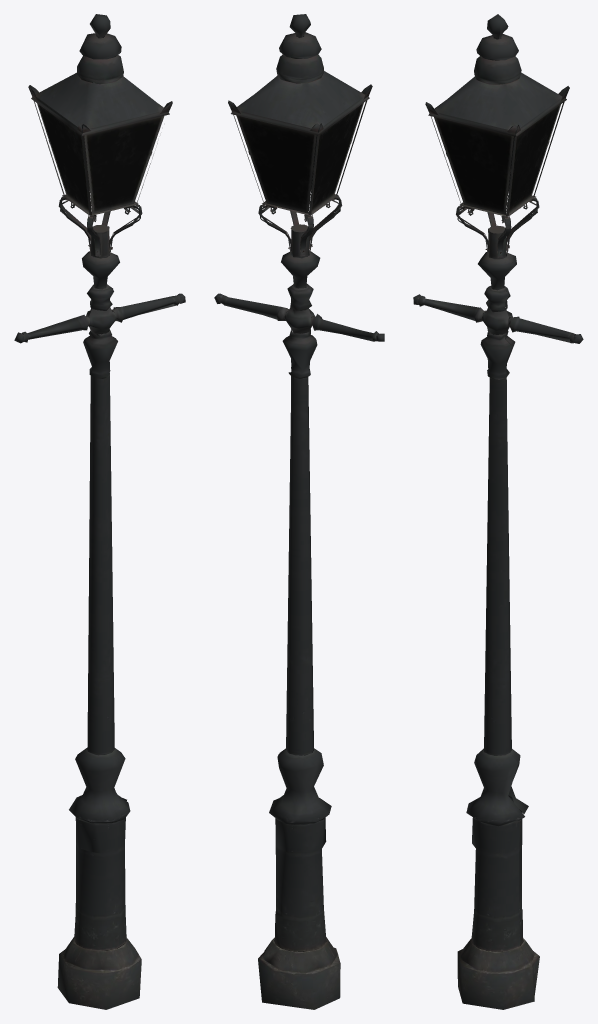
Rendered from street_lamp_01.glb.
3 renders of one model, left to right at view 1: azimuth 30°, elevation 25°; view 2: azimuth 150°, elevation 25°; view 3: azimuth 330°, elevation 25°, orthographic.
Visible parts, largest first — view 1: street_lamp_01; view 2: street_lamp_01; view 3: street_lamp_01.
Part boxes in pixels (bbox=[...]): street_lamp_01: bbox=[14, 14, 185, 1009]; street_lamp_01: bbox=[214, 14, 384, 1009]; street_lamp_01: bbox=[413, 14, 583, 1009].
Size of the model in its own units: 0.7074 by 3.87 by 0.3839.
Materials: 3 (3 with a texture image).
